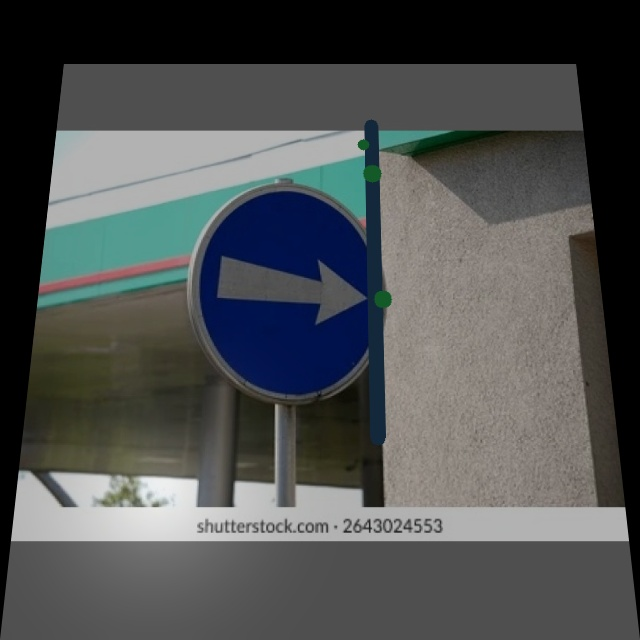Compulsory_Turn_Right: (187, 181, 395, 406)
